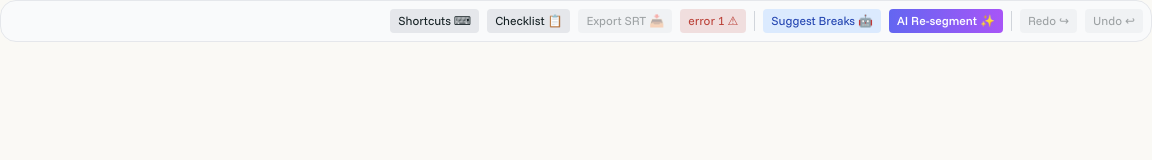
Test case: the timing warnings › lists what is actually wrong when asked
Click the button "⚠ 1 error". click: [713, 21]
box: x1=680 y1=9 x2=746 y2=33
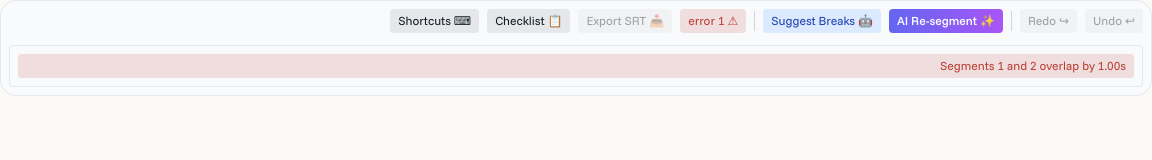
Now the text "Segments 1 and 2 overlap by 1.00s" is shown, box x1=18 y1=54 x2=1134 y2=78
